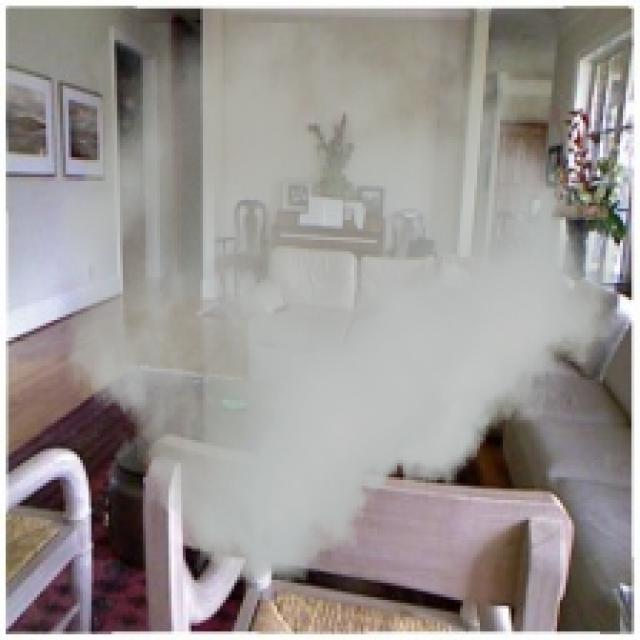smoke: (57, 23, 614, 583)
